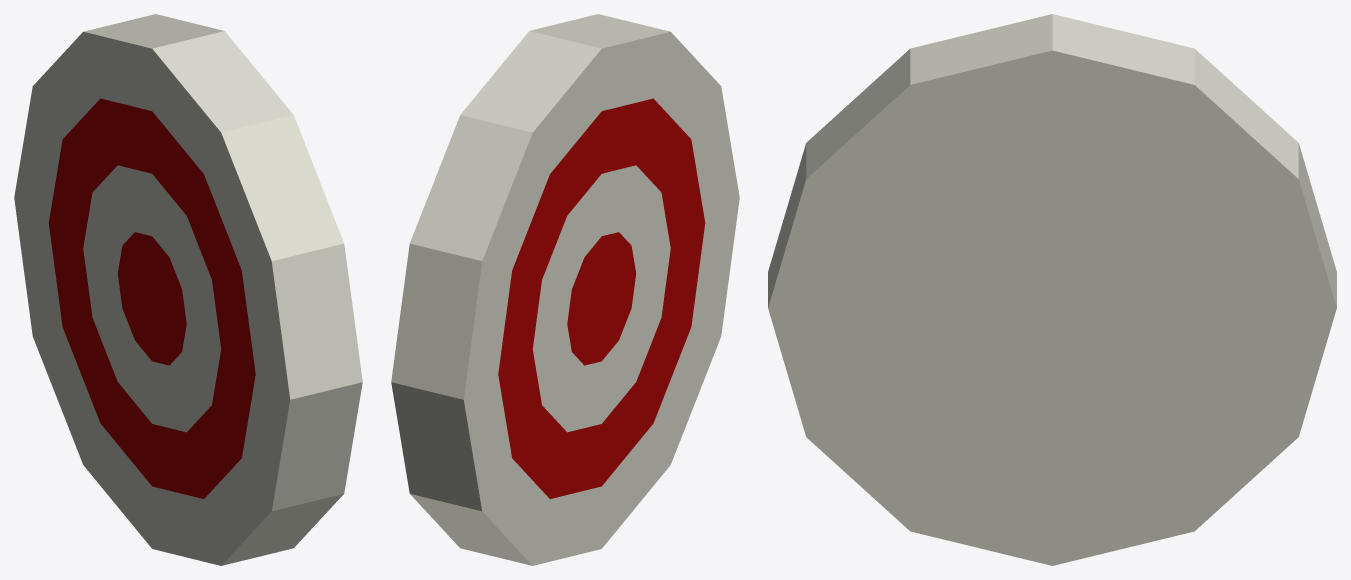
The model's file is SM_Cible.fbx.
3 views of the same model, side by side, from view 1: azimuth 30°, elevation 25°; view 2: azimuth 150°, elevation 25°; view 3: azimuth 270°, elevation 25° (orthographic). The views are drawn at different scales.
Visible parts, largest first — view 1: pCylinder5; view 2: pCylinder5; view 3: pCylinder5.
Boxes of the visible parts, left/top/right/bottom form: pCylinder5: left=14, top=14, right=362, bottom=565; pCylinder5: left=391, top=14, right=739, bottom=565; pCylinder5: left=768, top=14, right=1336, bottom=565.
Bounding box in the file's own units: 0.3034 × 2 × 2.
